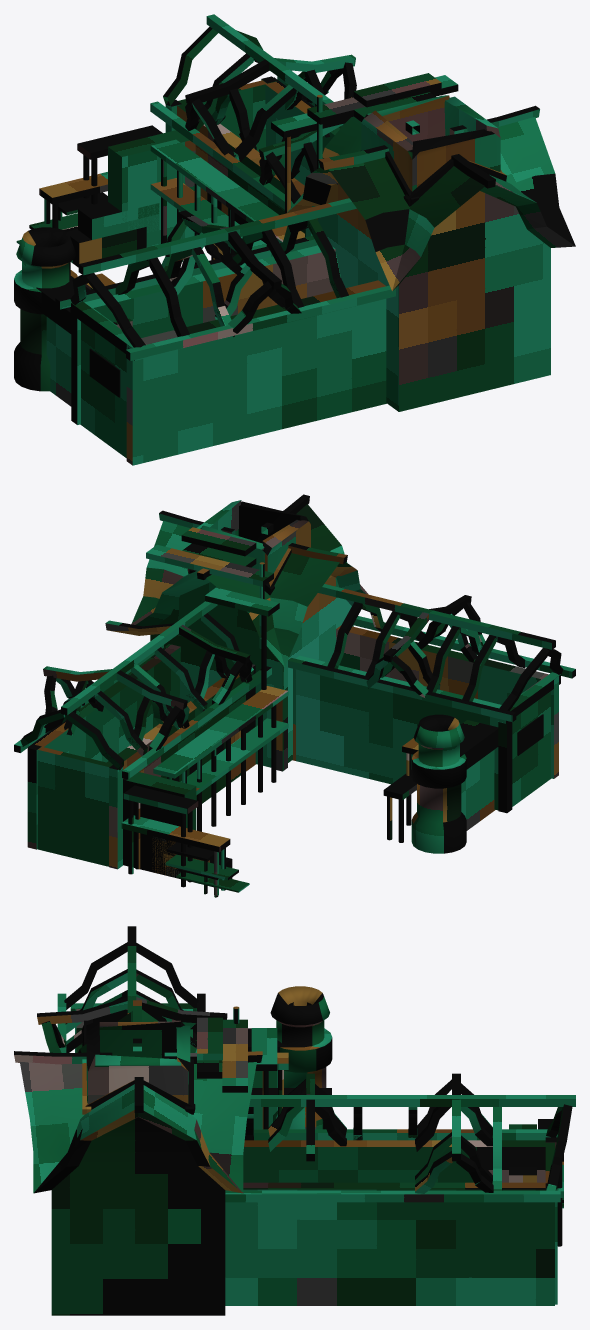
File: barracks.dae
The picture shows the model from 3 angles, top to bottom: view 1: azimuth 30°, elevation 25°; view 2: azimuth 150°, elevation 25°; view 3: azimuth 270°, elevation 25°; orthographic projection. The views are drawn at different scales.
Visible parts, largest first — view 1: BarraxBuild.001; view 2: BarraxBuild.001; view 3: BarraxBuild.001.
Part boxes in pixels (<box>): BarraxBuild.001: <box>14,14,575,465</box>; BarraxBuild.001: <box>14,494,575,897</box>; BarraxBuild.001: <box>14,926,575,1315</box>.
Bounding box in the file's own units: 22 × 23.5 × 11.47.
